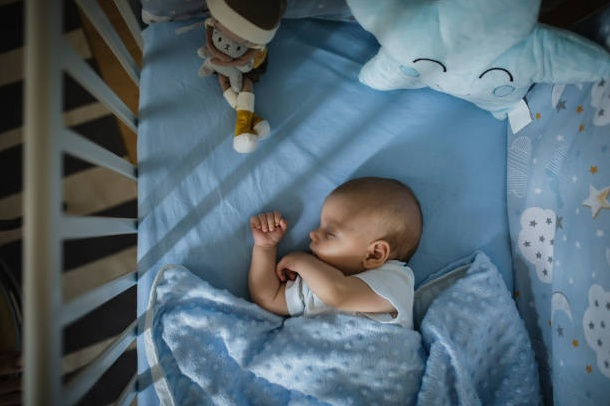baby: (248, 177, 422, 327)
crib: (23, 0, 609, 403)
